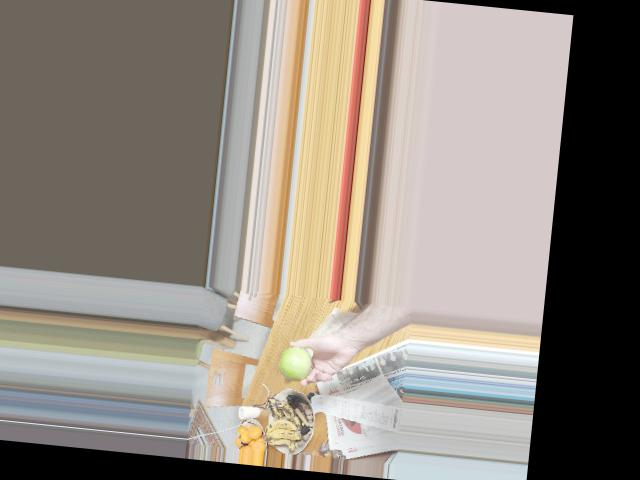apple: (275, 346, 313, 382)
